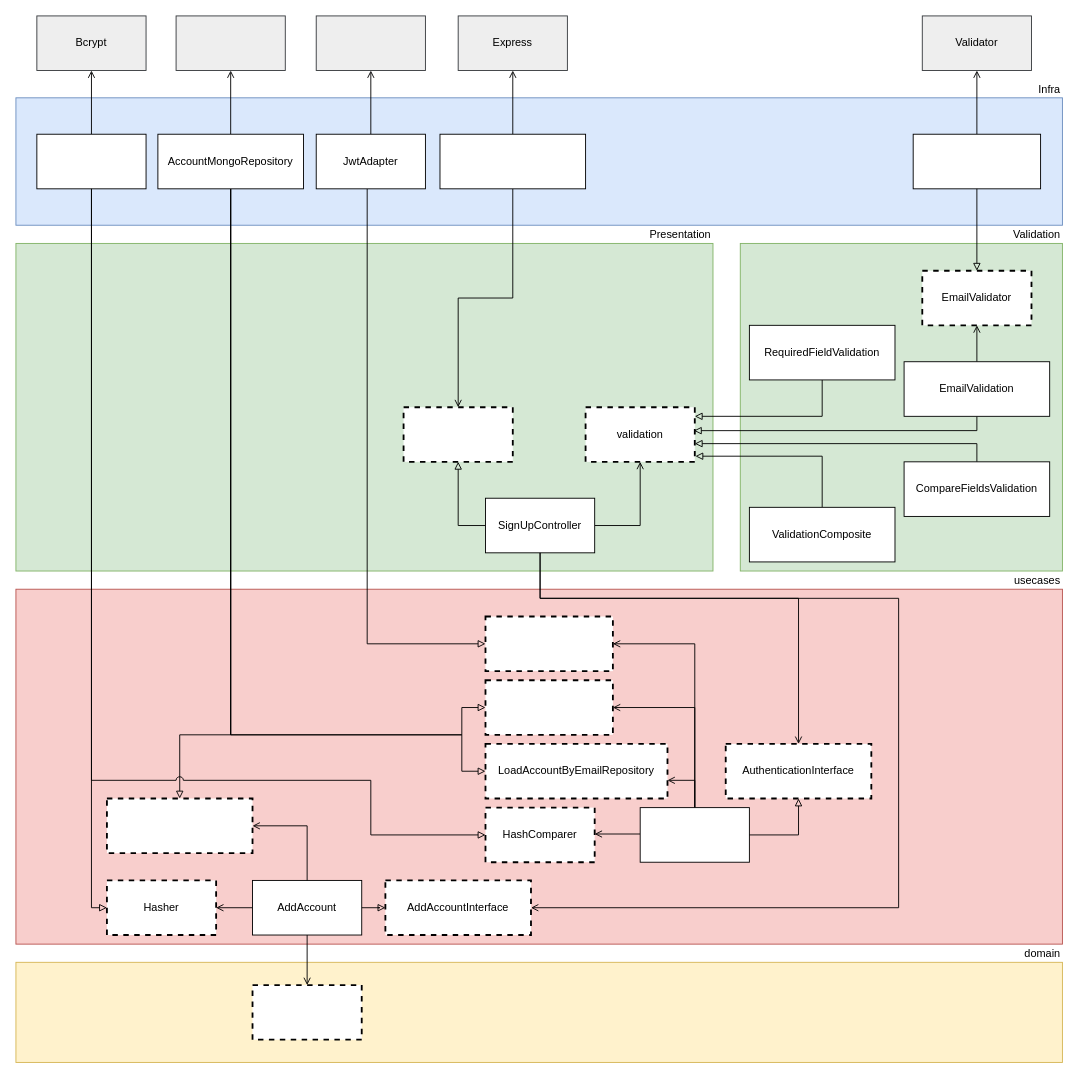
Image size: 1078x1078. Some labels were removed from this diagram. The shapes that lost their labels are listed below. From the top down, each one's centre as x and y in pixels, then its label:
(x=230, y=43): MongoDb
(x=370, y=43): JsonWebToken
(x=91, y=161): BcryptAdapter
(x=512, y=161): ExpressRouteAdapter
(x=976, y=161): EmailValidatorAdapter
(x=457, y=434): Controller
(x=548, y=643): TokenGenerator
(x=548, y=707): UpdateAccessToken
(x=179, y=825): AddAccountRepository
(x=694, y=834): Authentication
(x=306, y=1012): AccountModel
